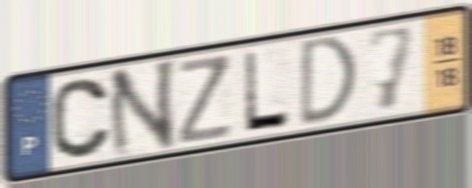7: (365, 22, 417, 118)
C: (48, 76, 115, 163)
D: (297, 32, 360, 132)
L: (242, 48, 293, 135)
N: (105, 55, 180, 163)
Z: (176, 50, 236, 148)
